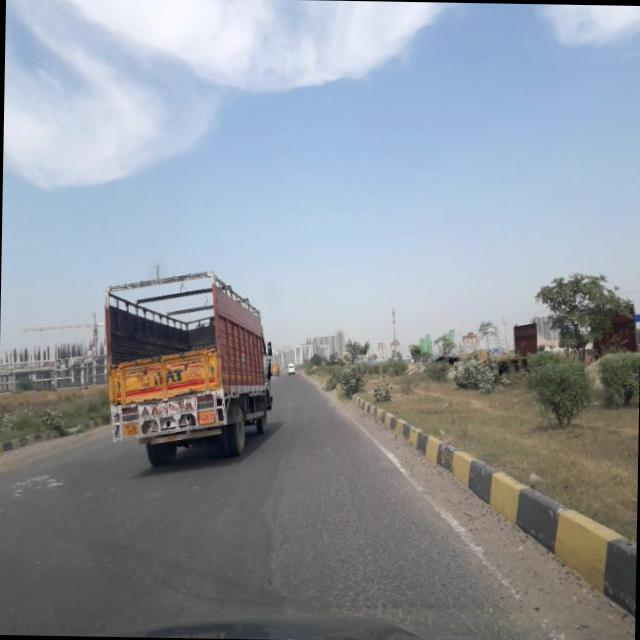crack: (232, 441, 528, 617)
